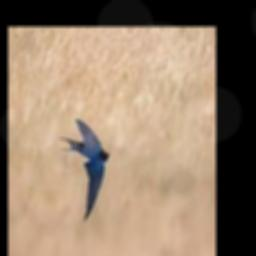Swallow: (60, 121, 110, 222)
